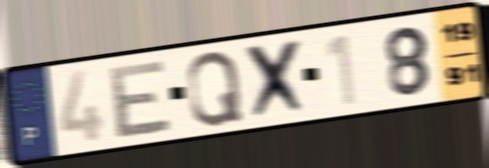1: (325, 33, 357, 107)
4: (57, 67, 107, 145)
8: (383, 23, 434, 99)
E: (108, 56, 175, 141)
Q: (185, 48, 246, 129)
X: (243, 35, 311, 124)
